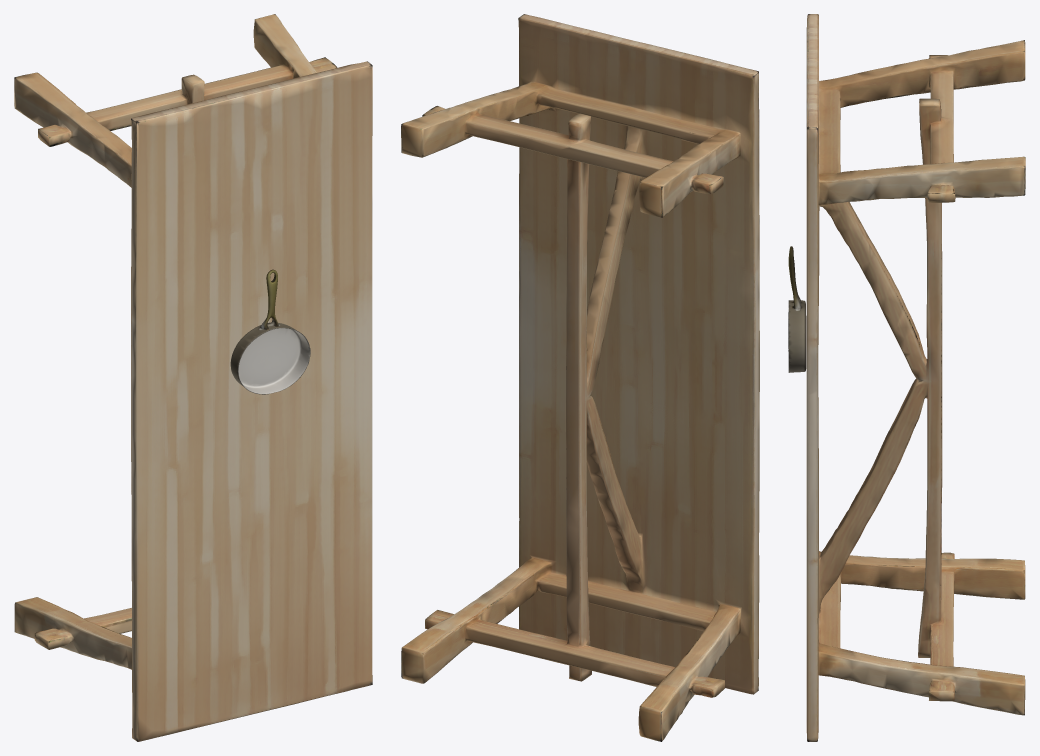
File: table_ikea_scaled_centered_with_pan_apriltag.obj
The picture shows the model from 3 angles, left to right: view 1: azimuth 30°, elevation 25°; view 2: azimuth 150°, elevation 25°; view 3: azimuth 270°, elevation 25°; orthographic projection.
Bounding box in the file's own units: 1.16 × 2.35 × 0.8233.
Materials: 2 (2 with a texture image).
